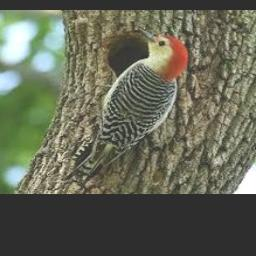Woodpecker: (61, 28, 188, 189)
